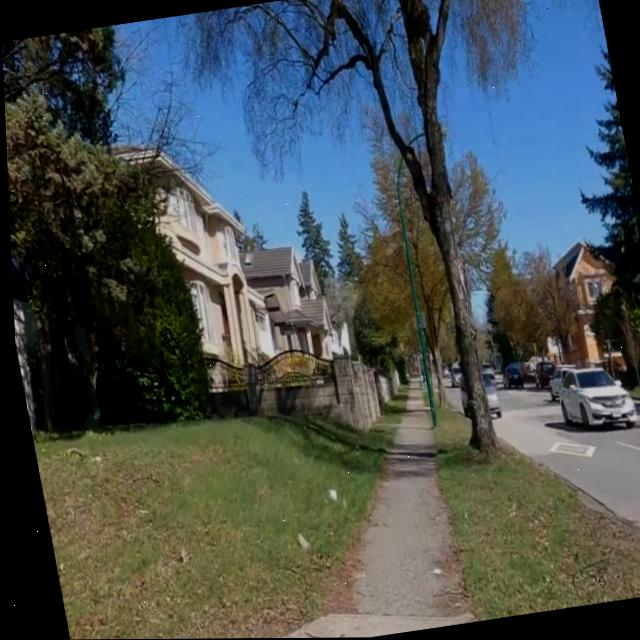Automobile: (554, 370, 631, 428), (478, 372, 496, 417), (546, 368, 564, 402), (500, 363, 519, 389), (531, 363, 548, 389)
Road: (490, 387, 640, 531)
Sidewalk: (346, 382, 452, 617), (269, 614, 470, 639)
